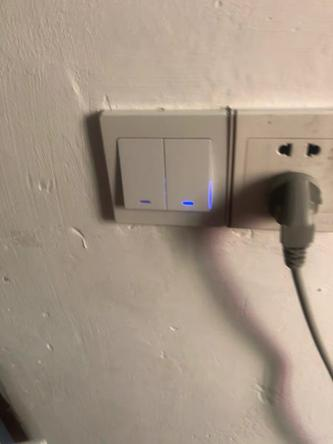switch: (112, 131, 168, 215), (165, 131, 219, 214)
